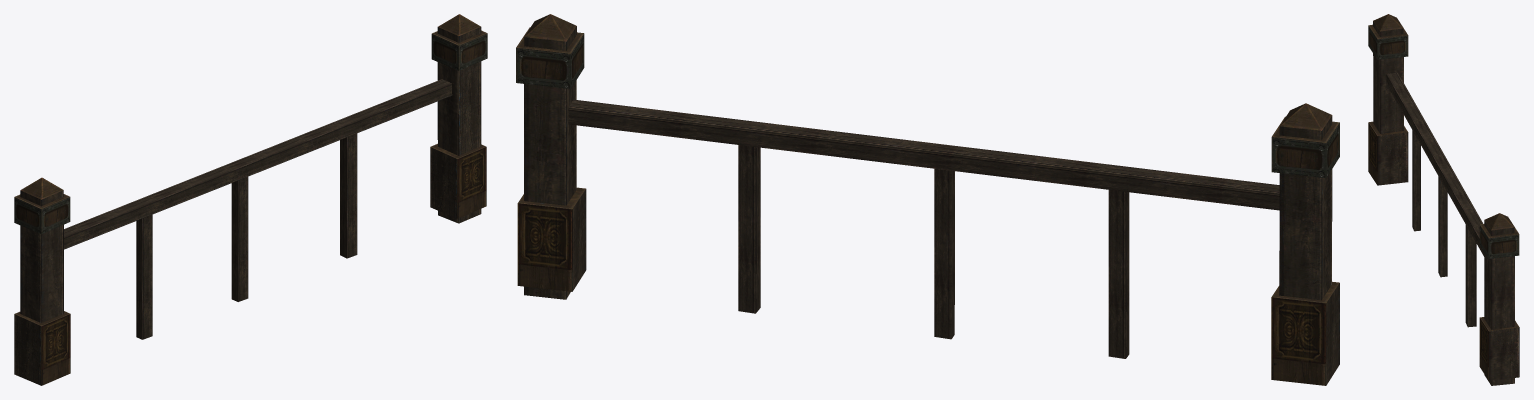
The model's file is rail_crack06.glb.
The picture shows the model from 3 angles, left to right: view 1: azimuth 30°, elevation 25°; view 2: azimuth 150°, elevation 25°; view 3: azimuth 270°, elevation 25°; orthographic projection. The views are drawn at different scales.
Visible parts, largest first — view 1: ship_rail_06; view 2: ship_rail_06; view 3: ship_rail_06.
Part boxes in pixels (x1,y1,x2,y2): ship_rail_06: [14, 14, 487, 385]; ship_rail_06: [516, 14, 1339, 385]; ship_rail_06: [1368, 14, 1519, 385].
Size of the model in its own units: 9.61 by 3.57 by 2.88.
3 materials, 3 textured.
